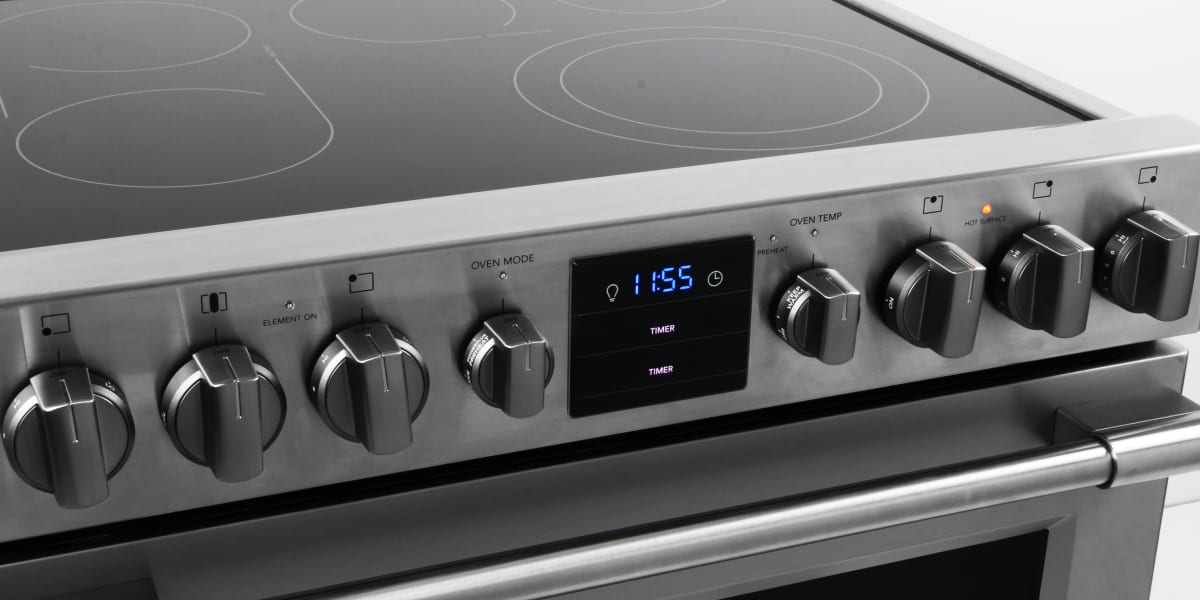stove: (1, 1, 1157, 594)
